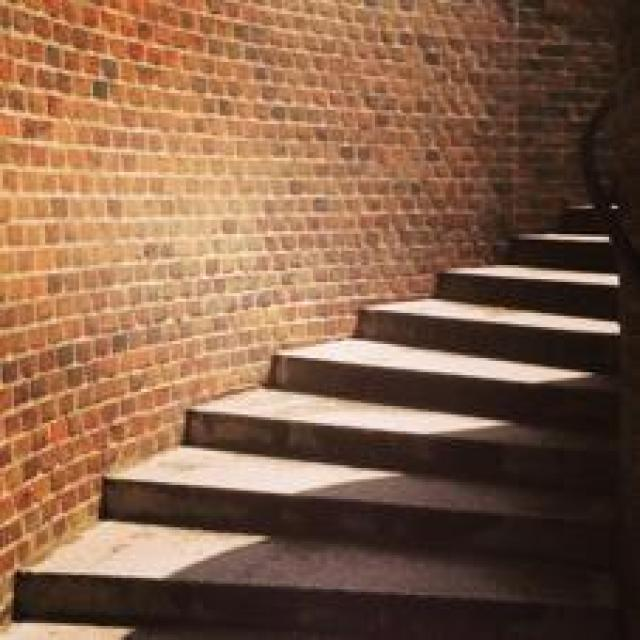upstair: (43, 399, 517, 619)
